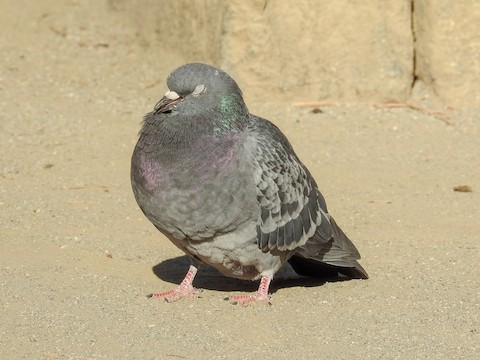pigeon: (125, 61, 379, 307)
